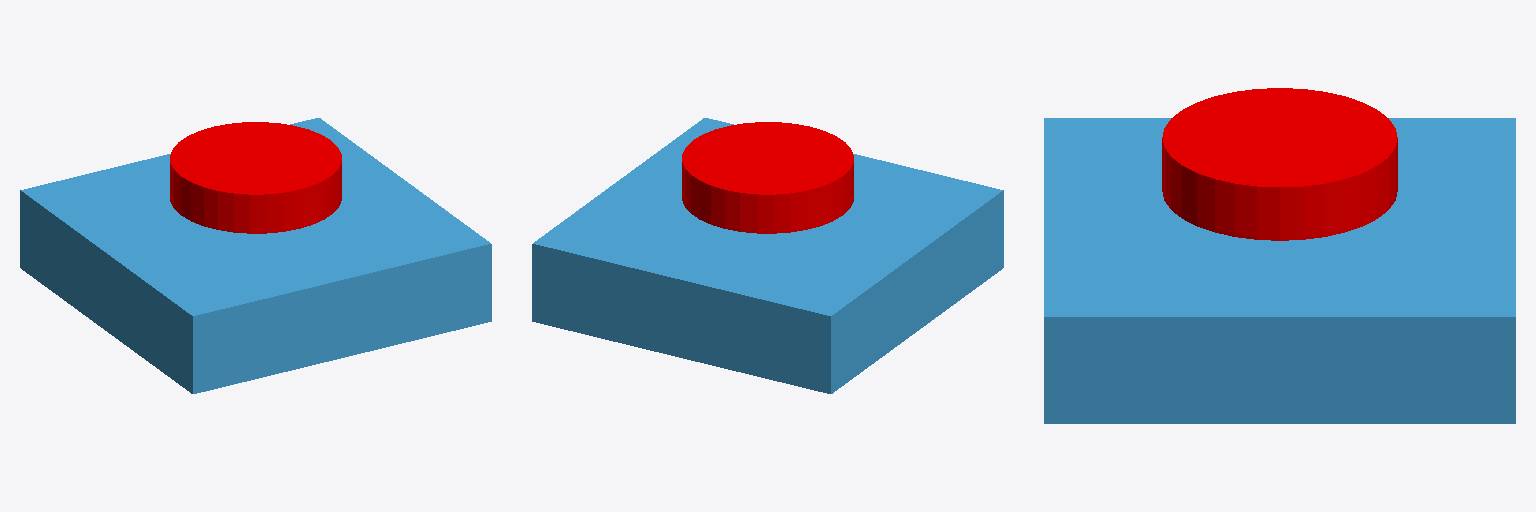
robot.urdf — button.urdf:
<?xml version="0.0" ?>
<robot name="button.urdf">

  <material name="yellow">
    <color rgba="1 1 0.4 1"/>
  </material>
  <material name="red">
    <color rgba="1 0 0 1"/>
  </material>
  <material name="blue">
    <color rgba=".17 .20 .38 1"/>
  </material>
  <material name="teal">
    <color rgba="0 .5 .5 1"/>
  </material>
  <material name="orange">
    <color rgba=".93 .6 .23 1"/>
  </material>

  <link name="world"/>

  <link name="base">
    <contact>
      <rolling_friction value="10.0"/>
      <lateral_friction value="10.0"/>
      <spinning_friction value="10.0"/>
    </contact>
    <inertial>
      <origin rpy="0 0 0" xyz="0.0 0.0 -.1"/>
       <mass value="0.1"/>
       <inertia ixx="1" ixy="0" ixz="0" iyy="1" iyz="0" izz="1"/>
    </inertial>
    <visual>
      <origin rpy="0 0 0" xyz="0 0 -.1"/>
      <geometry>
        <box size=".4 .4 .1"/>
      </geometry>
    </visual>
    <collision>
      <!--Bottom --> 
      <origin rpy="0 0 0" xyz="0 0 -.1"/>
      <geometry>
        <box size=".4 .4 .1"/>
      </geometry>
    </collision>
  </link>

  <link name="button">
    <contact>
      <rolling_friction value="1000.0"/>
      <lateral_friction value="1000.0"/>
      <spinning_friction value="1000.0"/>
      <contact_cfm value="0.0"/>
      <contact_erp value="1.0"/>
    </contact>
    <inertial>
      <origin rpy="0 0 0" xyz="0 0 0"/>
      <cylinder radius="0.1" length="0.05"/>
      <mass value=".1"/>
      <inertia ixx="1" ixy="0" ixz="0" iyy="1" iyz="0" izz="1"/>
    </inertial>
    <visual>
      <origin rpy="0 0 0" xyz="0 0 0"/>
      <geometry>
        <cylinder radius="0.1" length="0.05"/>
      </geometry>
      <material name="red"/>
    </visual>
    <collision>
      <origin rpy="0 0 0" xyz="0 0 0"/>
      <geometry>
        <cylinder radius="0.1" length="0.05"/>
      </geometry>
    </collision>
  </link>

  <joint name="base_joint" type="fixed">
    <origin rpy="0 0 0" xyz="0 0 0"/>
    <parent link="world"/>
    <child link="base"/>
  </joint>

  <joint name="base_button_joint" type="prismatic">
    <origin rpy="0 0 0" xyz="0 0 0"/>
    <axis rpy="0 0 0" xyz="0 0 1"/>
    <parent link="base"/>
    <child link="button"/>
    <limit effort="100" lower="-0.05" upper="0.05" velocity="100"/>
  </joint>

</robot>

--- Render facts (derived) ---
Views: 3 orthographic renders of the robot side by side, from view 1: azimuth 30°, elevation 25°; view 2: azimuth 150°, elevation 25°; view 3: azimuth 270°, elevation 25°.
Model button.urdf with 3 links and 2 joints (1 prismatic, 1 fixed), rooted at world, posed all joints at 0.
Visible links, largest first — view 1: base, button; view 2: base, button; view 3: base, button.
Link boxes in pixels (left/top/right/bottom): base: left=20, top=118, right=491, bottom=393; button: left=170, top=122, right=341, bottom=233; base: left=532, top=118, right=1003, bottom=393; button: left=682, top=122, right=853, bottom=233; base: left=1044, top=118, right=1515, bottom=423; button: left=1162, top=88, right=1397, bottom=240.
Bounding box of the posed robot: 0.4 × 0.4 × 0.175 m (x, y, z).
Geometry: primitives only (box / cylinder / sphere), no mesh files.